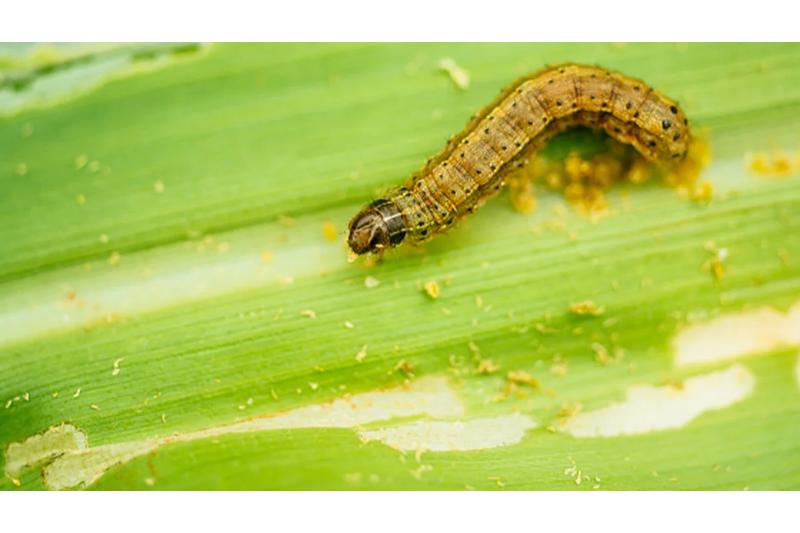fall-armyworm: (346, 64, 693, 269)
